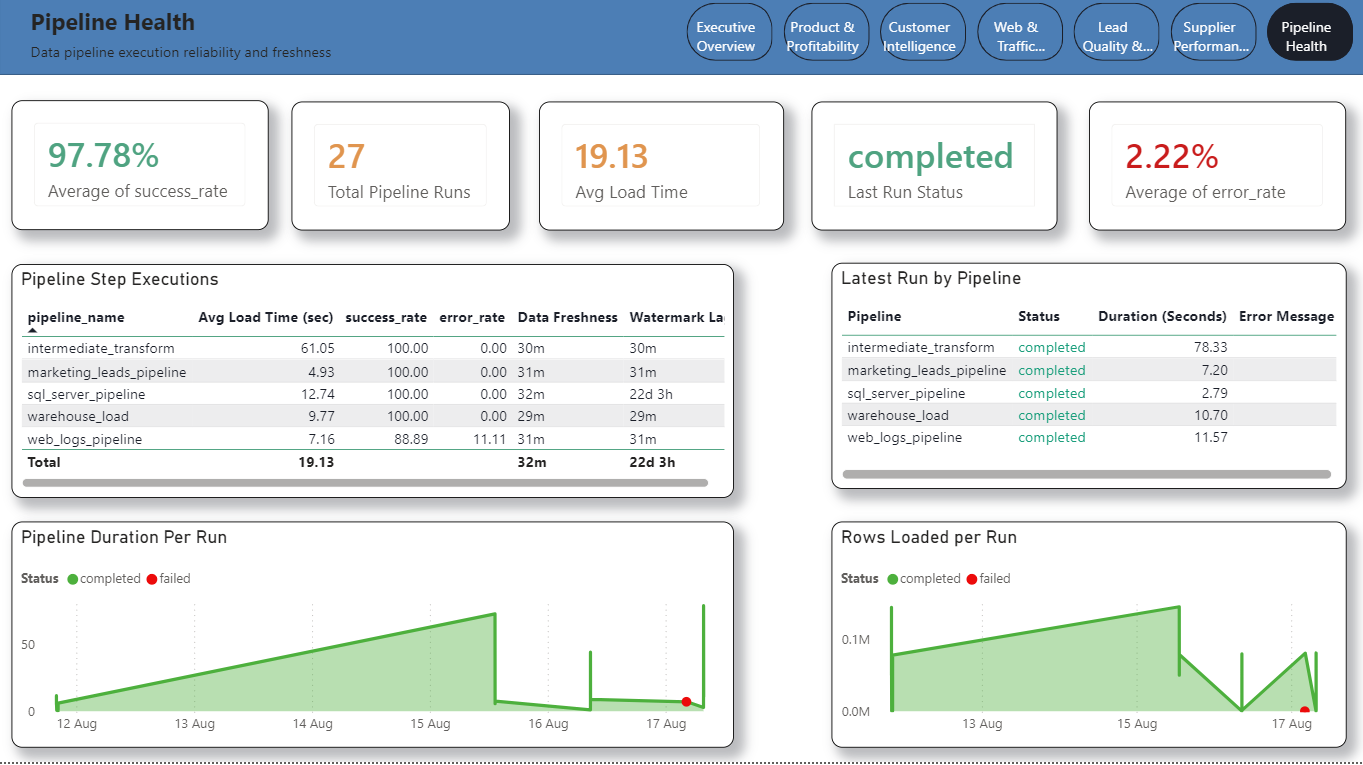

The dashboard page shown, as its layout file describes it:
{"tool":"powerbi","page":{"name":"Pipeline Health","canvas":[1280,720],"ordinal":6},"visuals":[{"type":"shape","box":[0,0,1280,80],"z":0},{"type":"tableEx","title":"Pipeline Step Executions","fields":{"Values":["marts vw_pipeline_execution_metrics.pipeline_name","Average(marts vw_pipeline_execution_metrics.avg_load_time)","marts vw_pipeline_execution_metrics.success_rate","marts vw_pipeline_execution_metrics.error_rate","Measure.Data Freshness (Formatted)","Measure.Watermark Lag (Formatted)"]},"box":[11.6,255.8,672.1,217.4],"z":1000},{"type":"cardVisual","fields":{"Data":["Avg(marts vw_pipeline_execution_metrics.success_rate)"]},"box":[11.6,103.5,239.5,120.9],"z":2000},{"type":"cardVisual","fields":{"Data":["Average(marts vw_pipeline_execution_metrics.avg_load_time)"]},"box":[502.3,104.7,227.9,119.8],"z":3000},{"type":"cardVisual","fields":{"Data":["Average(marts vw_pipeline_execution_metrics.error_rate)"]},"box":[1014,104.7,239.5,119.8],"z":4000},{"type":"textbox","box":[24.4,10.5,566.3,52.3],"z":5000},{"type":"textbox","box":[24.4,44.2,550,36],"z":6000},{"type":"pageNavigator","box":[639.5,12.8,620.9,54.7],"z":7000},{"type":"cardVisual","fields":{"Data":["CountNonNull(marts vw_pipeline_run_history.run_id)"]},"box":[272.1,104.7,203.5,119.8],"z":8000},{"type":"cardVisual","fields":{"Data":["Measure.Last Run Status"]},"box":[755.8,104.7,229.1,119.8],"z":9000},{"type":"areaChart","title":"Pipeline Duration Per Run","fields":{"Category":["marts vw_pipeline_run_history.run_timestamp"],"Series":["marts vw_pipeline_run_history.status"],"Y":["Sum(marts vw_pipeline_run_history.duration_seconds)"]},"box":[11.6,495.4,672.1,210.5],"z":10000},{"type":"stackedAreaChart","title":"Rows Loaded per Run","fields":{"Category":["marts vw_pipeline_run_history.run_timestamp"],"Series":["marts vw_pipeline_run_history.status"],"Y":["Sum(marts vw_pipeline_run_history.rows_loaded)"]},"box":[774.4,495.4,479.1,210.5],"z":11000},{"type":"tableEx","title":"Latest Run by Pipeline","fields":{"Values":["marts vw_pipeline_latest_run.pipeline_name","marts vw_pipeline_latest_run.status","Sum(marts vw_pipeline_latest_run.duration_seconds)","marts vw_pipeline_latest_run.error_message"]},"box":[774.4,254.7,479.1,210.5],"z":12000}]}

Visuals, with their boxes in screenshot pixels (x1, y1, x2, y2), scaled from the page's 1280x720 canvas onto the 1363x765 screenshot:
shape: rect(0, 0, 1362, 85)
"Pipeline Step Executions" tableEx: rect(12, 272, 728, 503)
cardVisual - Avg(marts vw_pipeline_execution_metrics.success_rate): rect(12, 110, 267, 238)
cardVisual - Average(marts vw_pipeline_execution_metrics.avg_load_time): rect(535, 111, 778, 239)
cardVisual - Average(marts vw_pipeline_execution_metrics.error_rate): rect(1080, 111, 1335, 239)
textbox: rect(26, 11, 629, 67)
textbox: rect(26, 47, 612, 85)
pageNavigator: rect(681, 14, 1342, 72)
cardVisual - CountNonNull(marts vw_pipeline_run_history.run_id): rect(290, 111, 506, 239)
cardVisual - Measure.Last Run Status: rect(805, 111, 1049, 239)
"Pipeline Duration Per Run" areaChart: rect(12, 526, 728, 750)
"Rows Loaded per Run" stackedAreaChart: rect(825, 526, 1335, 750)
"Latest Run by Pipeline" tableEx: rect(825, 271, 1335, 494)
